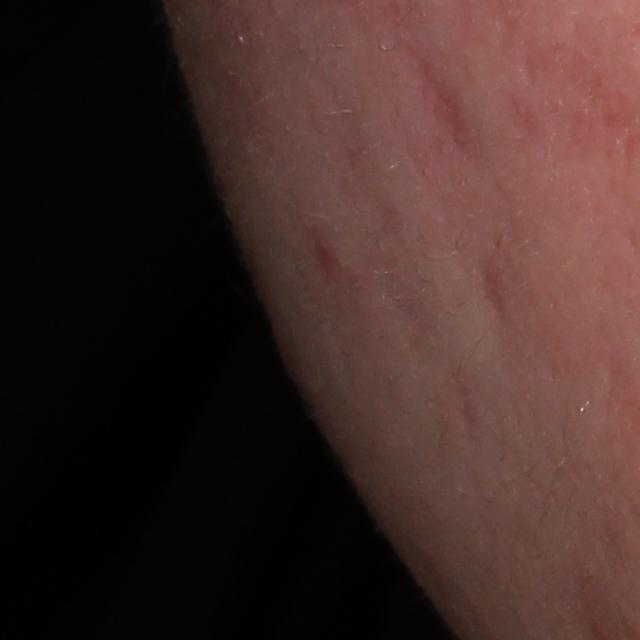atrophic_scar: (420, 53, 478, 155), (475, 255, 510, 316)
